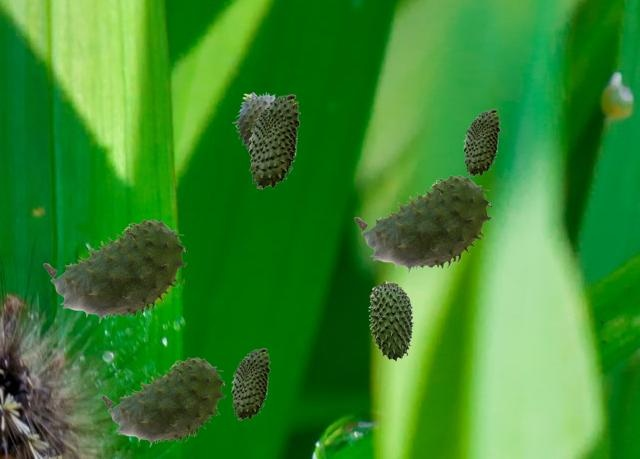guyabano: (43, 219, 186, 322), (354, 175, 491, 273), (101, 357, 225, 446), (248, 94, 299, 188), (368, 280, 413, 360), (231, 348, 269, 419), (232, 91, 275, 149), (463, 109, 499, 175)
